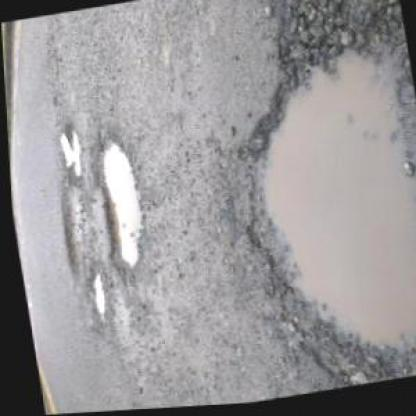pothole: (202, 0, 414, 402), (86, 130, 147, 283), (52, 186, 84, 283), (51, 124, 82, 182), (80, 268, 107, 327)
